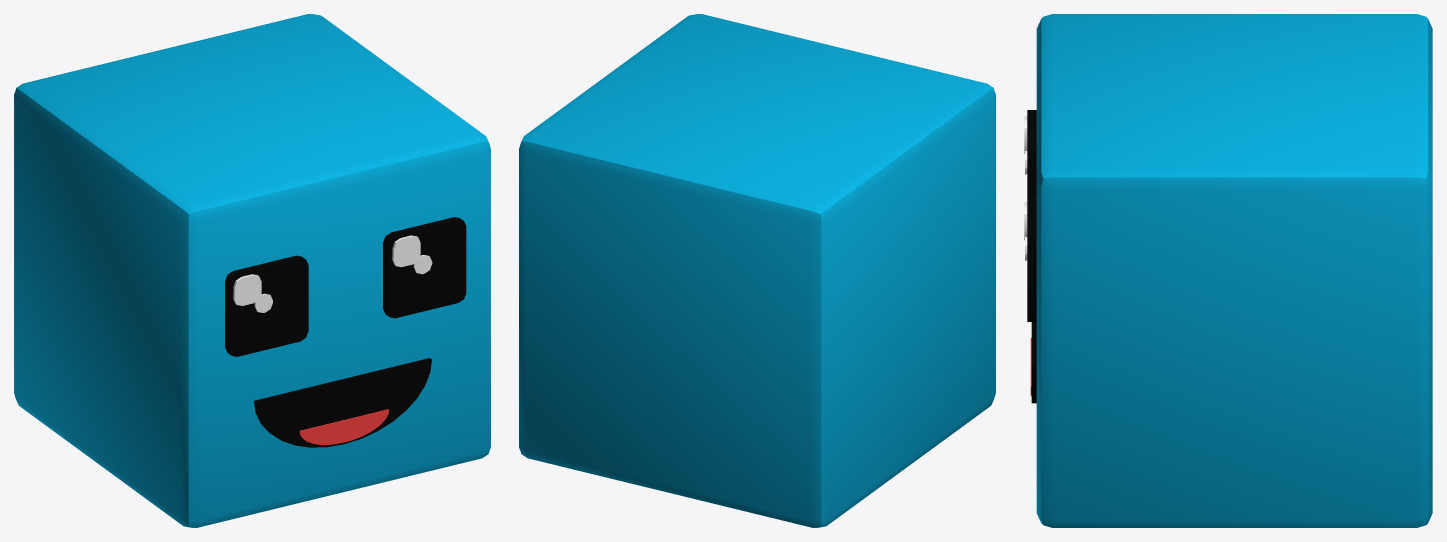
File: Player.fbx
3 renders of one model, left to right at view 1: azimuth 30°, elevation 25°; view 2: azimuth 150°, elevation 25°; view 3: azimuth 270°, elevation 25°, orthographic. The views are drawn at different scales.
Parts seen in each view (by area): view 1: Body, Eyes, Mouth; view 2: Body; view 3: Body, Eyes, Mouth.
Part boxes in pixels (box(x1,y1,x2,y2)): Body: box(14, 14, 490, 527); Eyes: box(225, 217, 466, 356); Mouth: box(254, 358, 431, 447); Body: box(519, 14, 995, 527); Body: box(1036, 14, 1432, 527); Eyes: box(1024, 110, 1036, 321); Mouth: box(1030, 322, 1036, 403).
Size of the model in its own units: 200 by 200 by 206.
